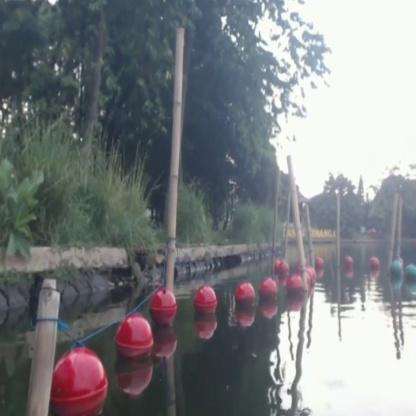green_buoy: (389, 258, 401, 284), (404, 262, 415, 287)
red_buoy: (49, 347, 108, 415), (116, 316, 152, 362), (150, 290, 172, 324), (195, 288, 215, 320), (233, 282, 254, 312), (261, 278, 277, 309), (287, 278, 303, 302), (274, 258, 288, 274), (370, 257, 380, 275), (344, 254, 354, 272), (315, 254, 324, 271), (309, 265, 315, 290)
